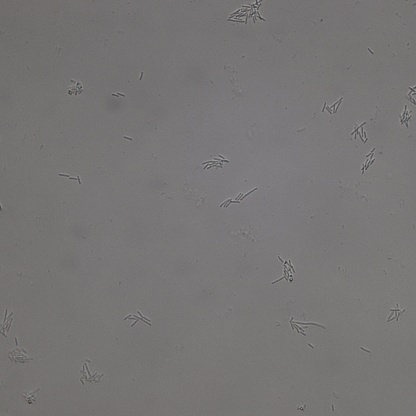R(colony): (228, 1, 266, 24), (220, 186, 257, 208), (8, 338, 34, 367), (289, 317, 325, 337), (271, 256, 295, 284), (79, 360, 103, 386), (124, 310, 152, 329), (201, 154, 229, 171), (351, 120, 369, 142), (361, 148, 376, 174), (387, 303, 406, 323), (1, 310, 16, 335), (321, 98, 343, 114), (399, 105, 413, 128), (68, 78, 85, 96)
